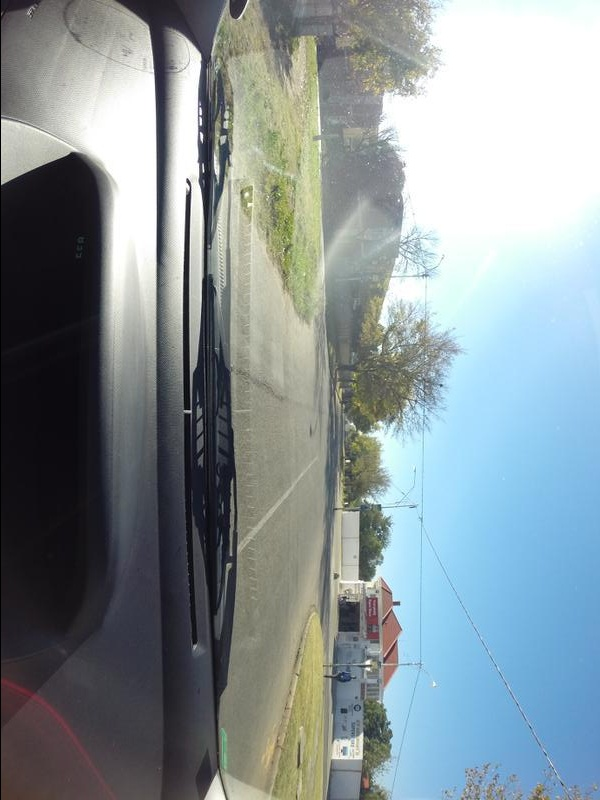pothole: (305, 427, 315, 441)
